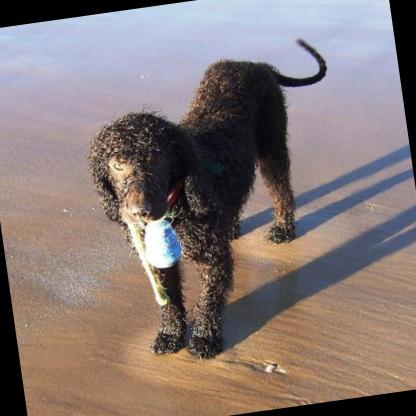Irish_water_spaniel: (73, 34, 364, 370)
